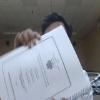notebook: (0, 24, 93, 99)
